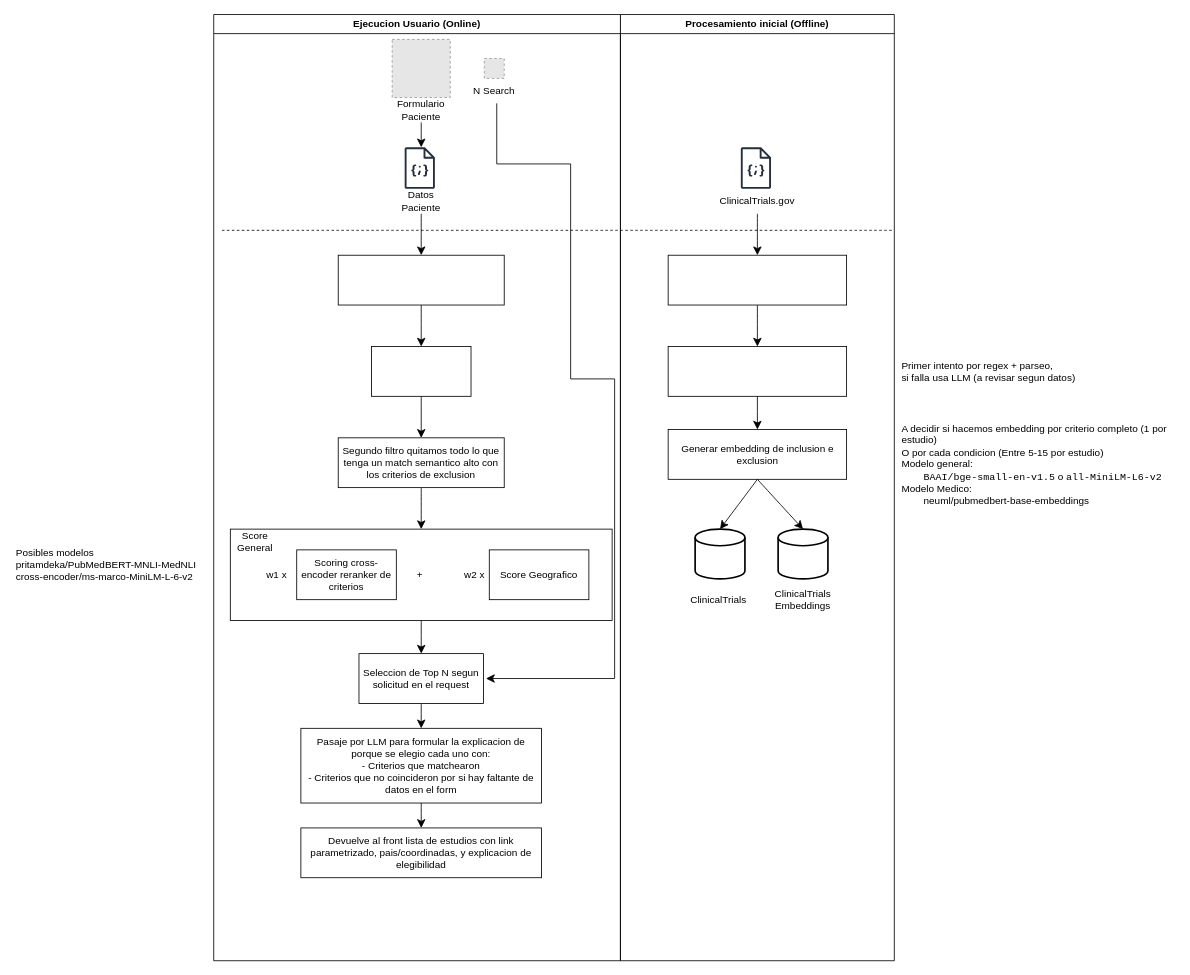
This 1190x975 diagram has some shape labels left out. Grey dashed boxes stand in for pictures. Each missing label, with the centre of its shape:
"Embeddear perfil del paciente" goes at point 421,371.
"Normalizacion de Diagnostico ( scispaCy ) Condition, Keyword, Mesh" goes at point 757,279.
"Primer filtro de estudios - Por diagnostico - Por estado de recluting - Por ECOG" goes at point 420,279.
"Separa de la columna elegibility criteria los de inclusion vs exclusion" goes at point 757,371.
